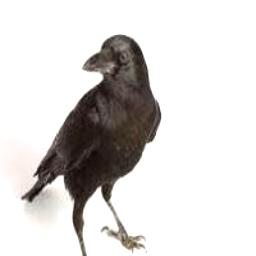Crow: (22, 32, 163, 256)
